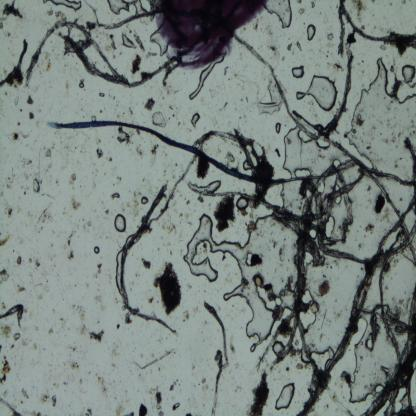Air bubble: (344, 55, 390, 165), (184, 215, 237, 282), (222, 282, 274, 350), (322, 48, 355, 136), (189, 54, 226, 100), (295, 74, 339, 112), (282, 128, 302, 178), (256, 84, 283, 117), (264, 0, 292, 29), (299, 288, 317, 332), (265, 183, 288, 209), (188, 177, 222, 193), (149, 29, 168, 56), (105, 0, 142, 13), (43, 0, 83, 12), (400, 64, 416, 86), (113, 214, 128, 235), (120, 32, 136, 50), (324, 215, 336, 238), (297, 129, 312, 144), (235, 196, 250, 210), (294, 165, 311, 177), (303, 250, 314, 268), (272, 340, 284, 355), (306, 24, 316, 41), (316, 139, 331, 150), (190, 113, 200, 128), (245, 251, 253, 269), (316, 182, 326, 195), (374, 382, 384, 394), (274, 121, 282, 135), (333, 157, 341, 169), (366, 338, 374, 350), (309, 228, 317, 240), (243, 161, 251, 172), (334, 195, 342, 206), (140, 197, 150, 204), (306, 188, 311, 198), (94, 246, 100, 254), (335, 184, 341, 191)
Background material: (155, 260, 181, 316), (246, 372, 270, 414), (386, 302, 408, 336), (218, 194, 237, 232), (254, 274, 277, 302), (71, 303, 88, 337), (275, 381, 295, 408), (349, 1, 369, 24), (1, 1, 24, 20), (0, 355, 12, 386), (116, 126, 133, 146), (150, 110, 167, 129), (391, 74, 402, 102), (38, 206, 54, 225), (196, 157, 208, 180), (97, 376, 109, 399), (318, 278, 330, 300), (30, 175, 43, 195), (154, 390, 164, 415), (132, 53, 142, 77), (134, 34, 146, 54), (67, 231, 75, 260), (4, 171, 16, 190), (89, 329, 104, 344), (375, 193, 385, 215), (3, 199, 14, 219), (0, 230, 12, 248), (291, 64, 305, 79), (144, 94, 155, 112), (71, 195, 82, 213), (246, 219, 257, 236), (93, 262, 103, 280), (108, 32, 117, 51), (140, 256, 152, 270), (20, 157, 32, 171), (38, 391, 50, 405), (269, 45, 280, 60), (355, 113, 366, 128), (283, 320, 292, 338), (0, 269, 10, 285), (69, 170, 78, 186), (149, 144, 160, 157), (55, 11, 68, 22), (168, 378, 178, 392), (310, 302, 320, 316), (138, 403, 148, 416), (364, 222, 375, 233), (145, 50, 157, 60), (44, 145, 52, 159), (295, 38, 303, 52), (114, 404, 124, 415), (226, 150, 235, 162), (136, 146, 144, 159), (51, 392, 57, 408), (96, 148, 104, 160), (202, 376, 208, 392), (110, 190, 119, 200), (296, 362, 306, 371), (16, 283, 26, 292), (16, 256, 24, 267), (12, 131, 20, 142), (172, 401, 180, 412), (183, 309, 189, 323), (27, 93, 34, 105), (13, 331, 20, 343), (79, 78, 86, 90), (278, 254, 288, 262), (28, 110, 35, 121), (127, 106, 134, 117), (298, 7, 306, 16), (85, 406, 93, 415), (13, 96, 20, 106), (22, 388, 29, 398), (309, 0, 316, 10), (97, 90, 105, 98), (71, 362, 79, 370), (288, 41, 293, 53), (275, 148, 280, 158), (47, 8, 53, 16), (35, 261, 40, 269), (105, 208, 110, 216), (116, 322, 120, 330), (0, 22, 3, 30)
Cellulose filter fibre: (233, 34, 416, 270), (298, 186, 416, 414), (121, 182, 180, 336), (25, 21, 134, 86), (60, 32, 184, 88), (364, 282, 416, 414), (360, 165, 416, 261), (339, 0, 416, 50), (314, 195, 365, 266), (202, 298, 232, 415), (156, 154, 196, 218), (378, 262, 403, 361), (255, 312, 295, 372), (85, 1, 155, 30), (0, 39, 29, 89), (196, 127, 260, 148), (337, 171, 355, 242), (234, 129, 257, 177), (137, 346, 176, 370), (402, 137, 416, 182), (0, 299, 24, 323), (336, 5, 346, 59), (0, 396, 21, 416)
Cotton: (47, 119, 257, 184)
Pen: (154, 1, 268, 64)
